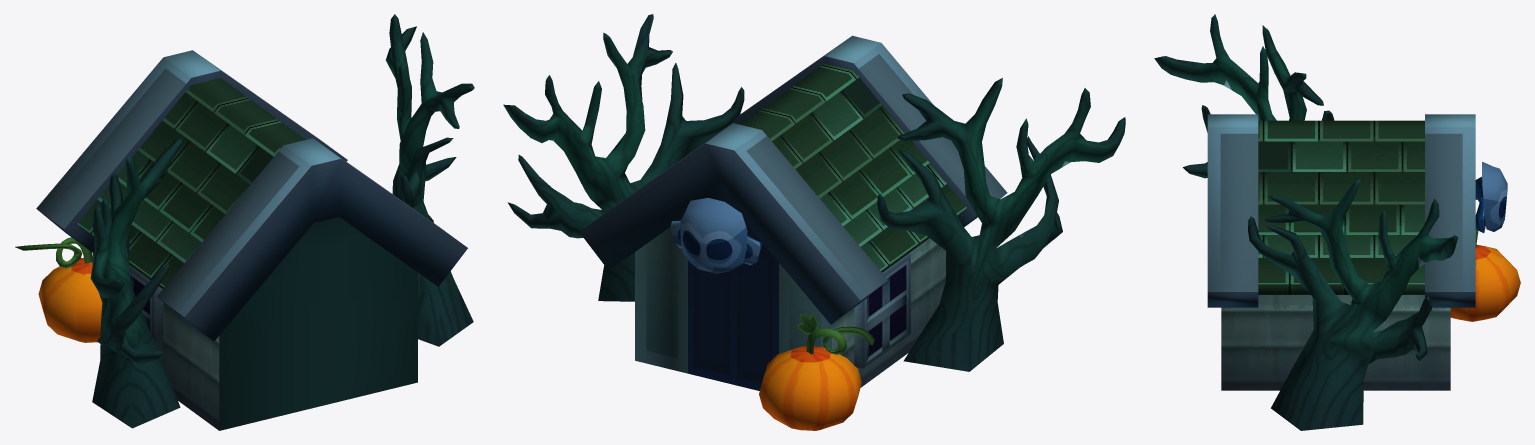
File: HauntedOdysseyStatue.fbx
The picture shows the model from 3 angles, left to right: view 1: azimuth 30°, elevation 25°; view 2: azimuth 150°, elevation 25°; view 3: azimuth 270°, elevation 25°; orthographic projection. The views are drawn at different scales.
Parts seen in each view (by area): view 1: HauntedOdysseyStatue; view 2: HauntedOdysseyStatue; view 3: HauntedOdysseyStatue.
Boxes of the visible parts, <box> form: HauntedOdysseyStatue: <box>15,14,474,430</box>; HauntedOdysseyStatue: <box>503,14,1125,430</box>; HauntedOdysseyStatue: <box>1154,14,1520,430</box>.
Bounding box in the file's own units: 29.58 × 16.47 × 21.26.
